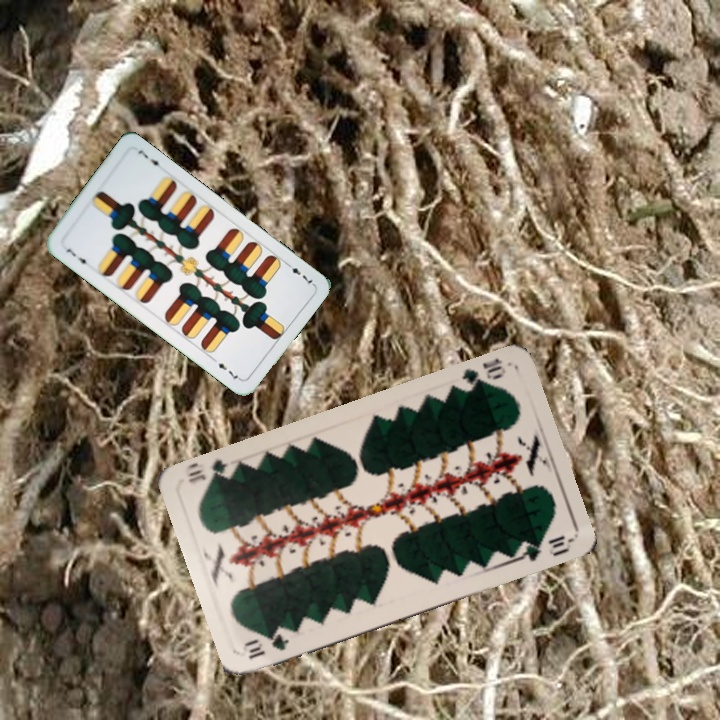E7: (281, 258, 316, 288), (62, 244, 92, 270)
G10: (454, 354, 509, 395), (241, 629, 292, 662)
